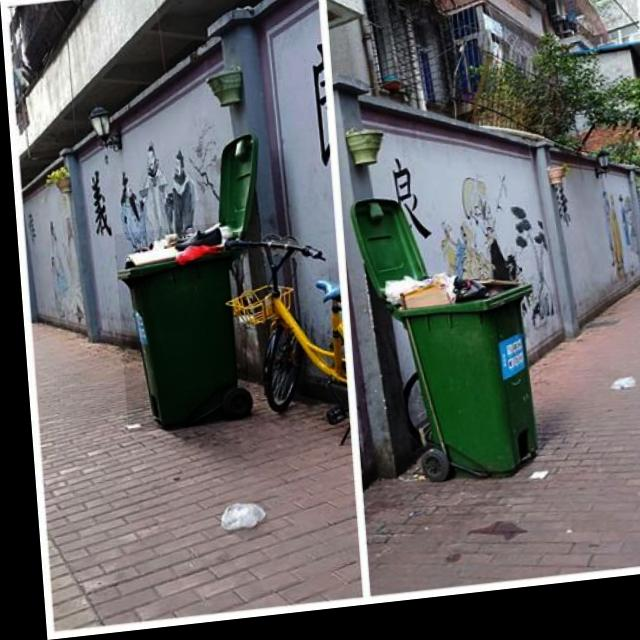garbage: (208, 502, 258, 537)
overflow: (373, 272, 538, 497), (110, 226, 245, 436)
